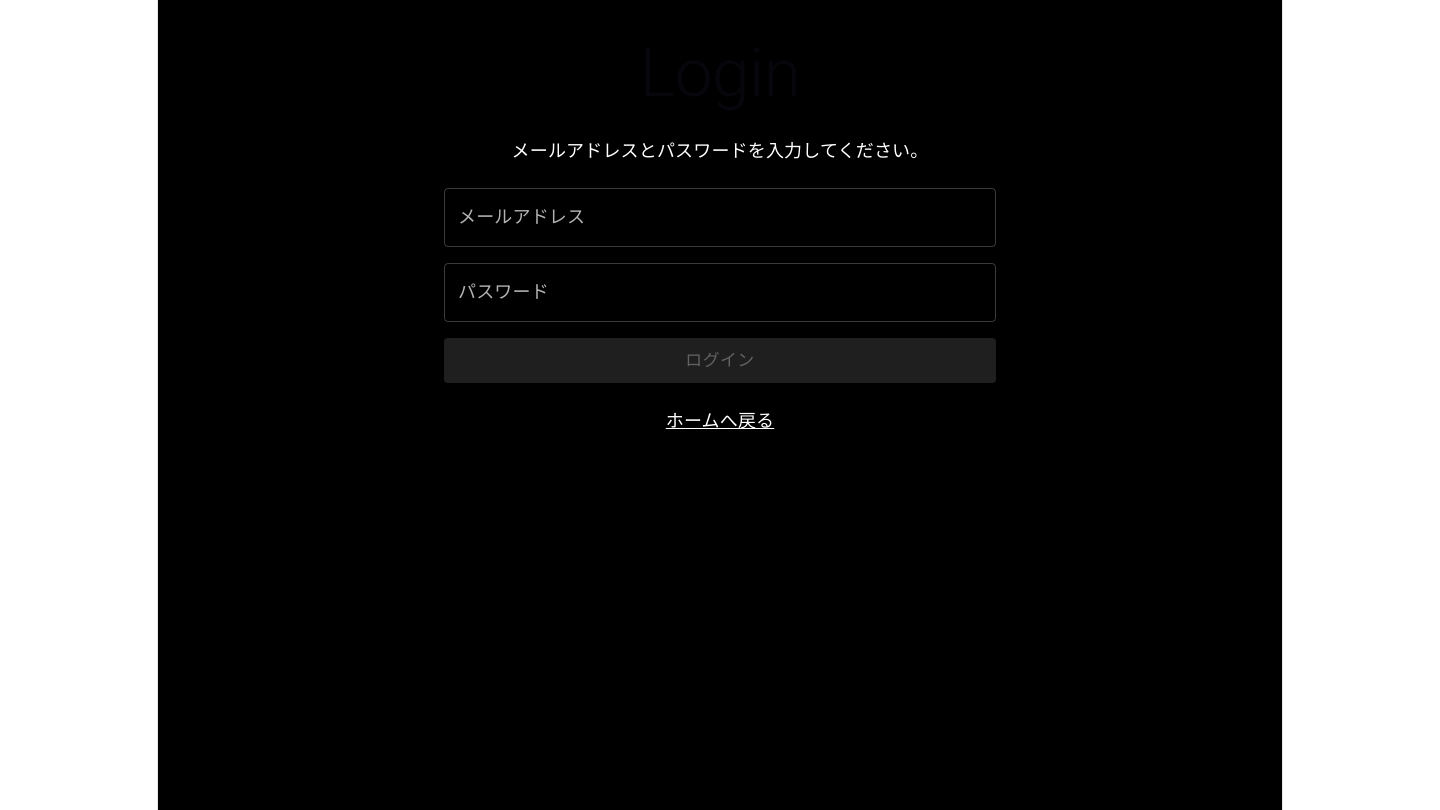
LoginPage › 認証に失敗すると共通エラーを表示する
The width and height of the screenshot is (1440, 810).
Type "other@example.com" into the field labelled "メールアドレス" at (720, 217), box [444, 188, 996, 247]
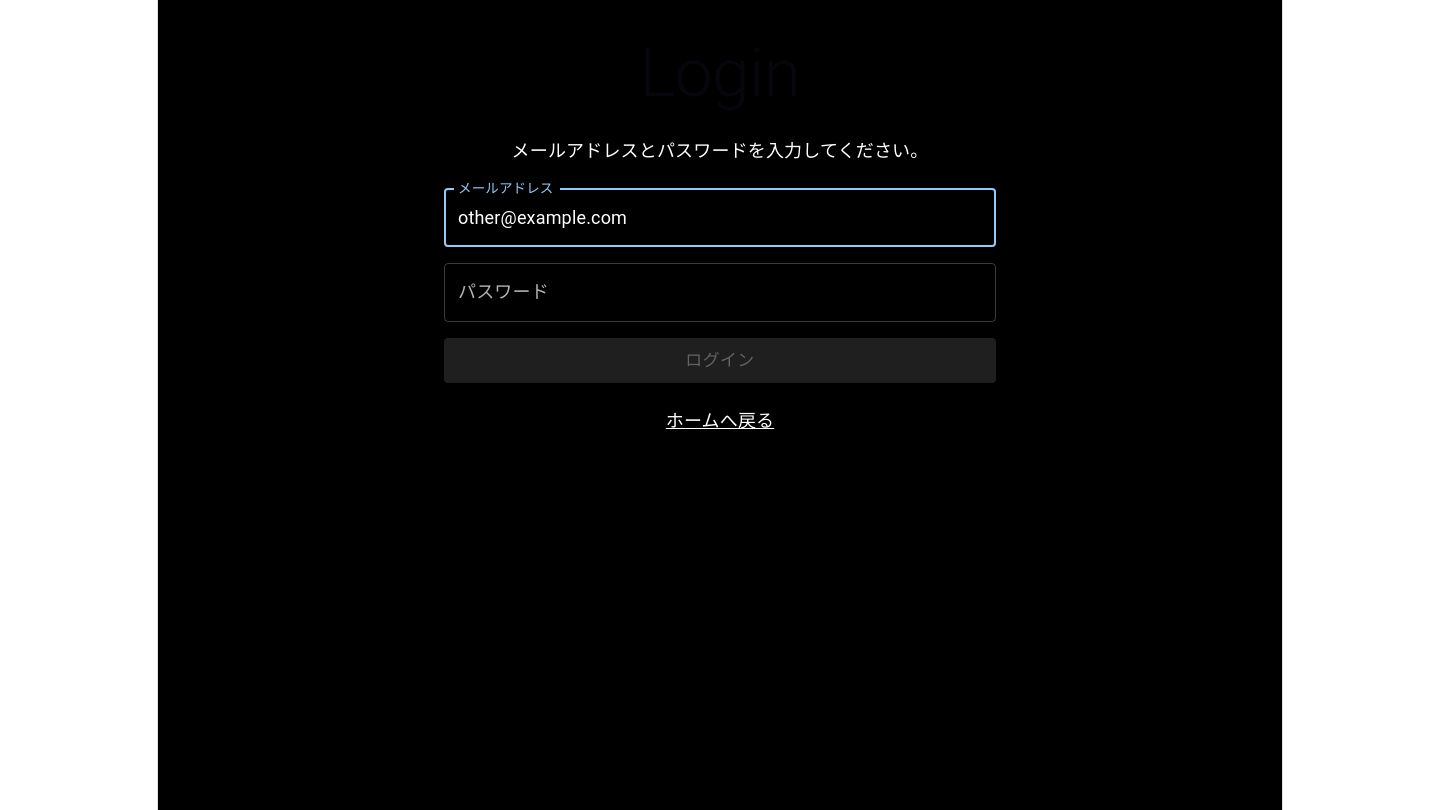
Type "wrong-password" into the password field labelled "パスワード" at (720, 292), box [444, 263, 996, 322]
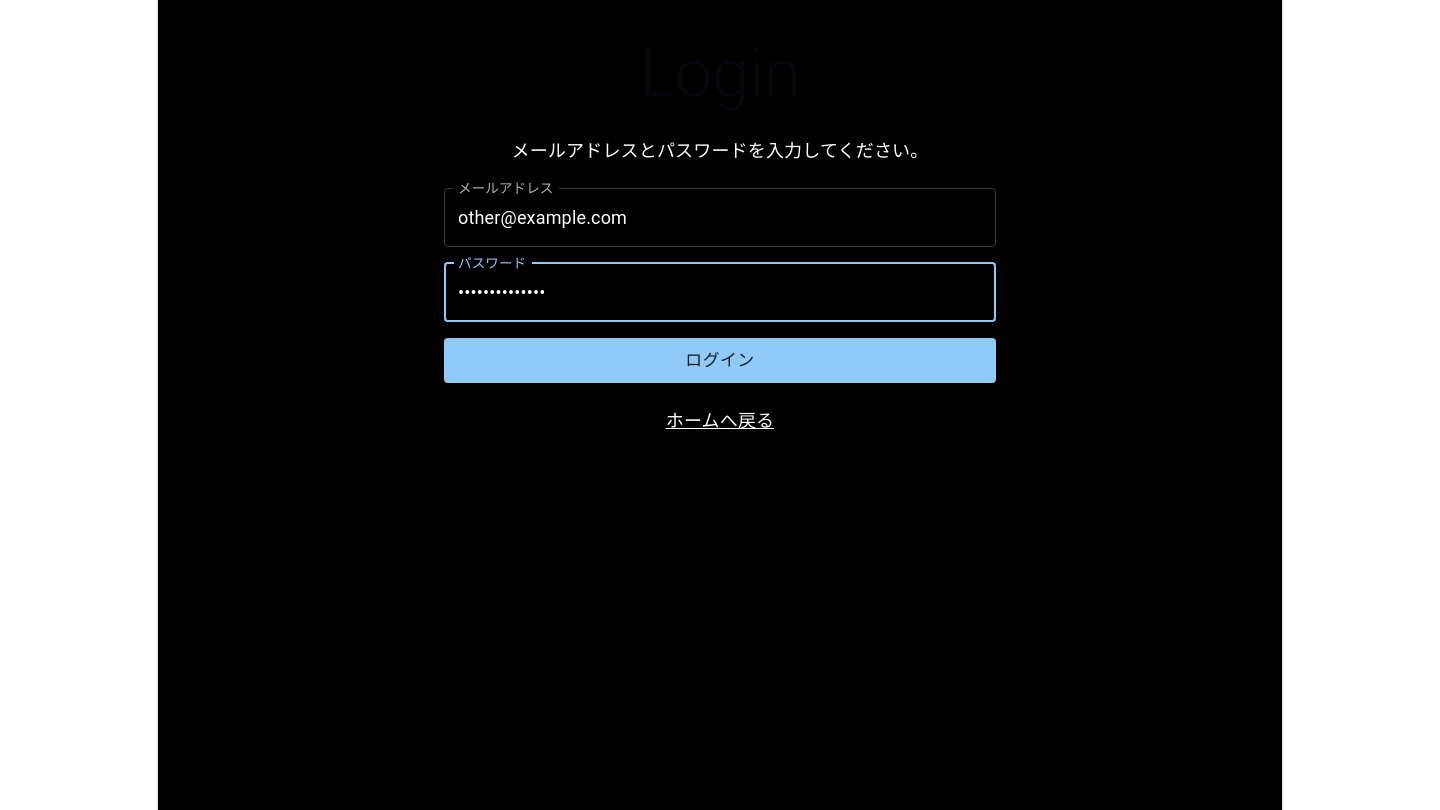
Click the button "ログイン" at (720, 361), box [444, 338, 996, 383]
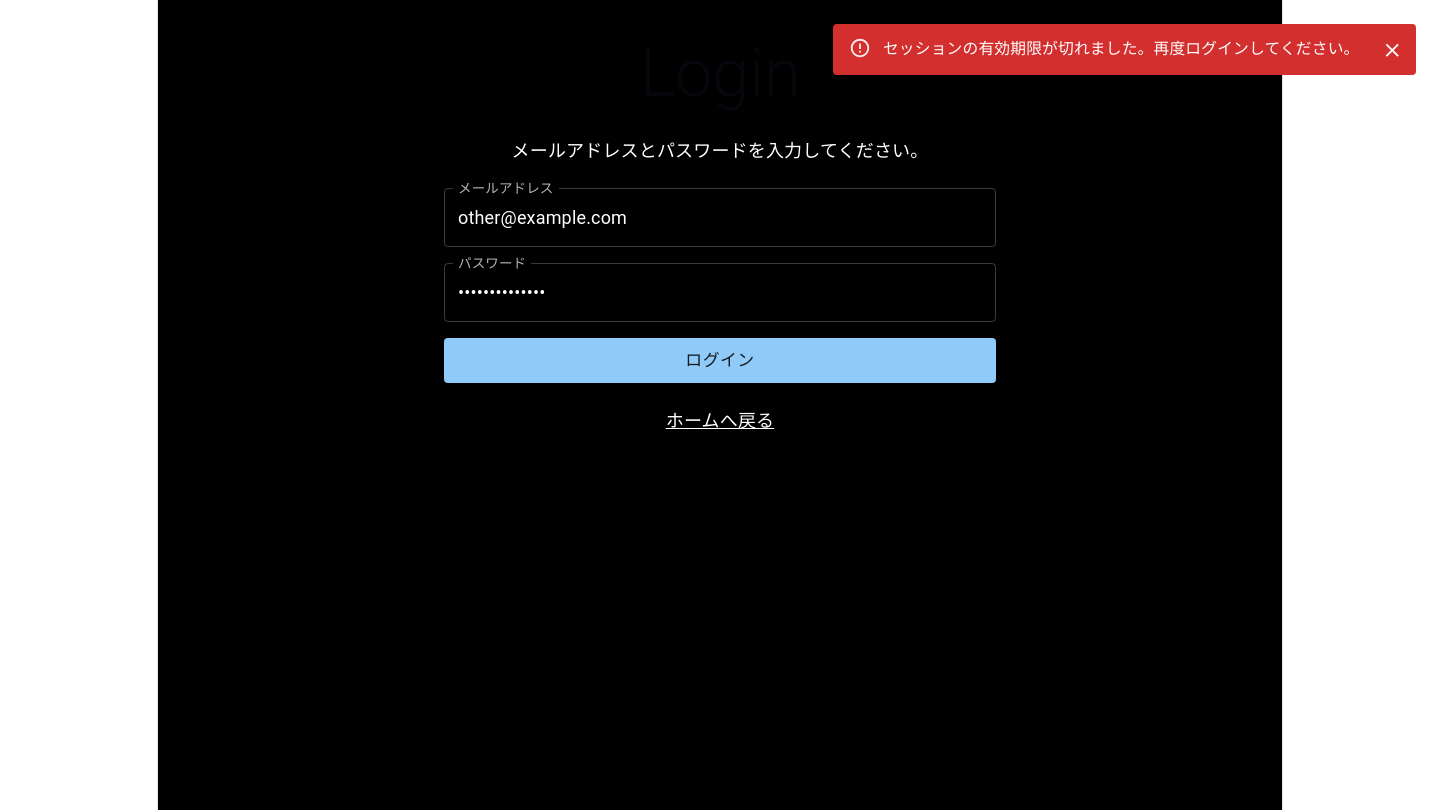
Now the text "セッションの有効期限が切れました。再度ログインしてください。" is shown, box [883, 39, 1360, 58]
